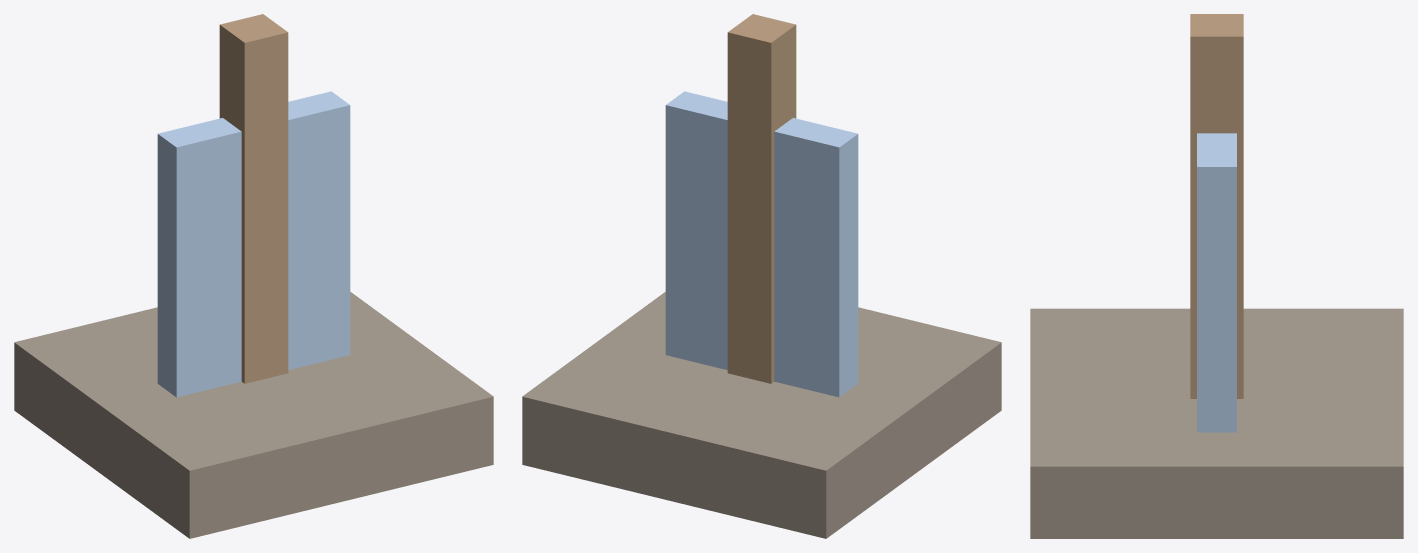
The model's file is SM_Shrine_Homestead.fbx.
3 views of the same model, side by side, from view 1: azimuth 30°, elevation 25°; view 2: azimuth 150°, elevation 25°; view 3: azimuth 270°, elevation 25° (orthographic). The views are drawn at different scales.
Parts seen in each view (by area): view 1: SM_Shrine_Homestead_Base, SM_Shrine_Homestead_PortalGlow, SM_Shrine_Homestead_Post_L; view 2: SM_Shrine_Homestead_Base, SM_Shrine_Homestead_PortalGlow, SM_Shrine_Homestead_Post_L; view 3: SM_Shrine_Homestead_Base, SM_Shrine_Homestead_PortalGlow, SM_Shrine_Homestead_Post_L.
Boxes of the visible parts, left/top/right/bottom form: SM_Shrine_Homestead_Base: left=14, top=292, right=493, bottom=538; SM_Shrine_Homestead_PortalGlow: left=157, top=91, right=350, bottom=397; SM_Shrine_Homestead_Post_L: left=219, top=14, right=288, bottom=383; SM_Shrine_Homestead_Base: left=522, top=292, right=1001, bottom=538; SM_Shrine_Homestead_PortalGlow: left=665, top=91, right=858, bottom=397; SM_Shrine_Homestead_Post_L: left=727, top=14, right=796, bottom=383; SM_Shrine_Homestead_Base: left=1030, top=308, right=1403, bottom=538; SM_Shrine_Homestead_PortalGlow: left=1197, top=133, right=1236, bottom=432; SM_Shrine_Homestead_Post_L: left=1190, top=14, right=1243, bottom=398.
Size of what is drawn, in the model's own units: 1.4 by 1.4 by 1.8.
